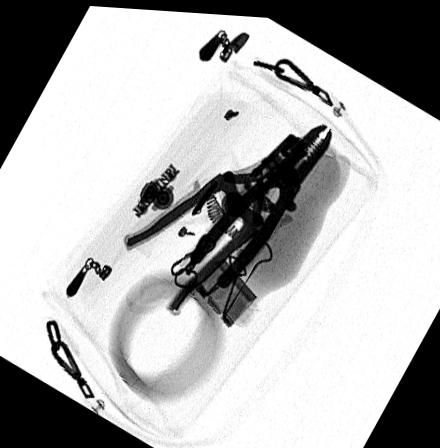Pliers: (124, 127, 309, 312), (188, 119, 332, 290)
